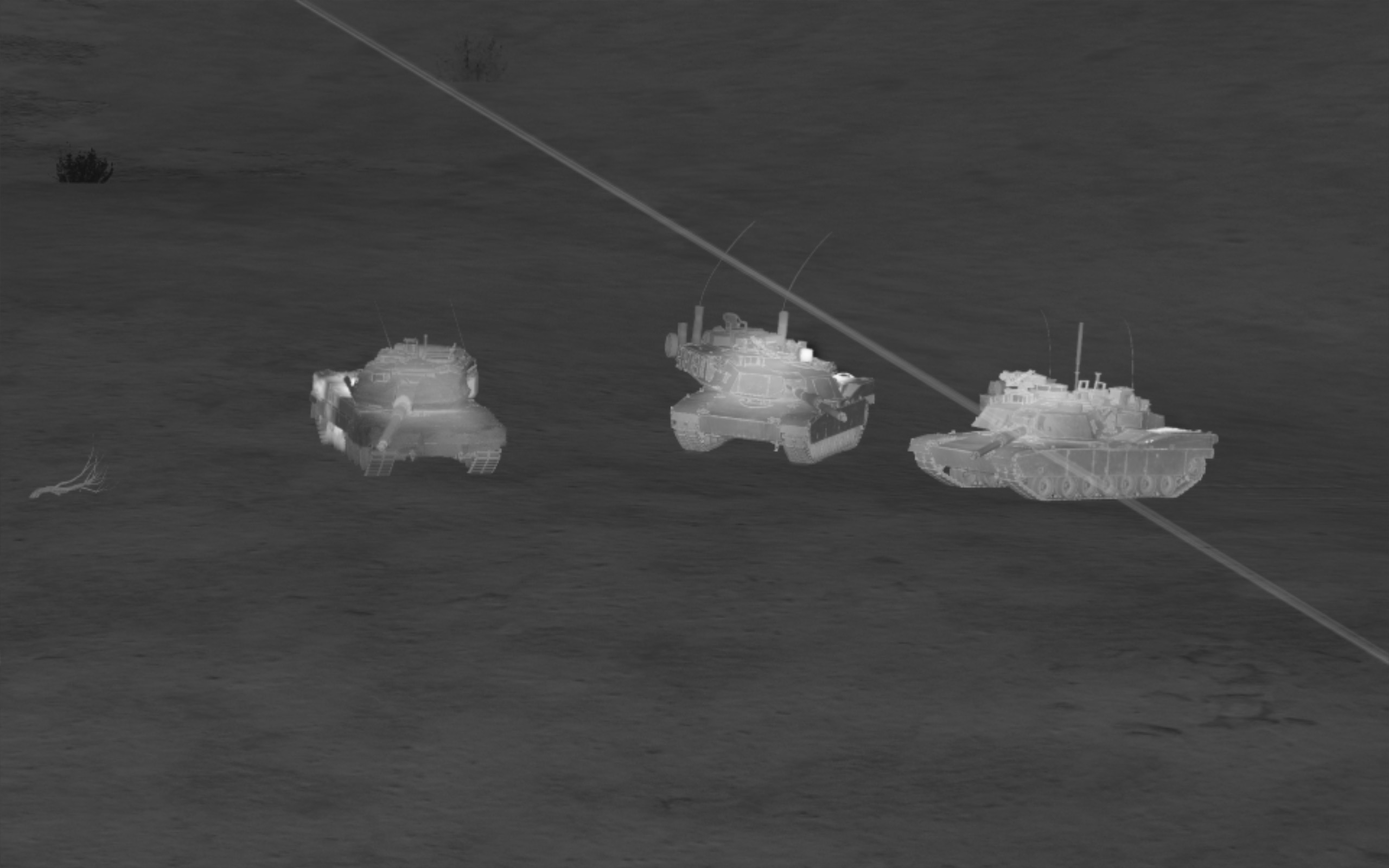abrams: (908, 369, 1218, 502)
leopard2: (663, 306, 872, 466), (310, 335, 505, 477)
